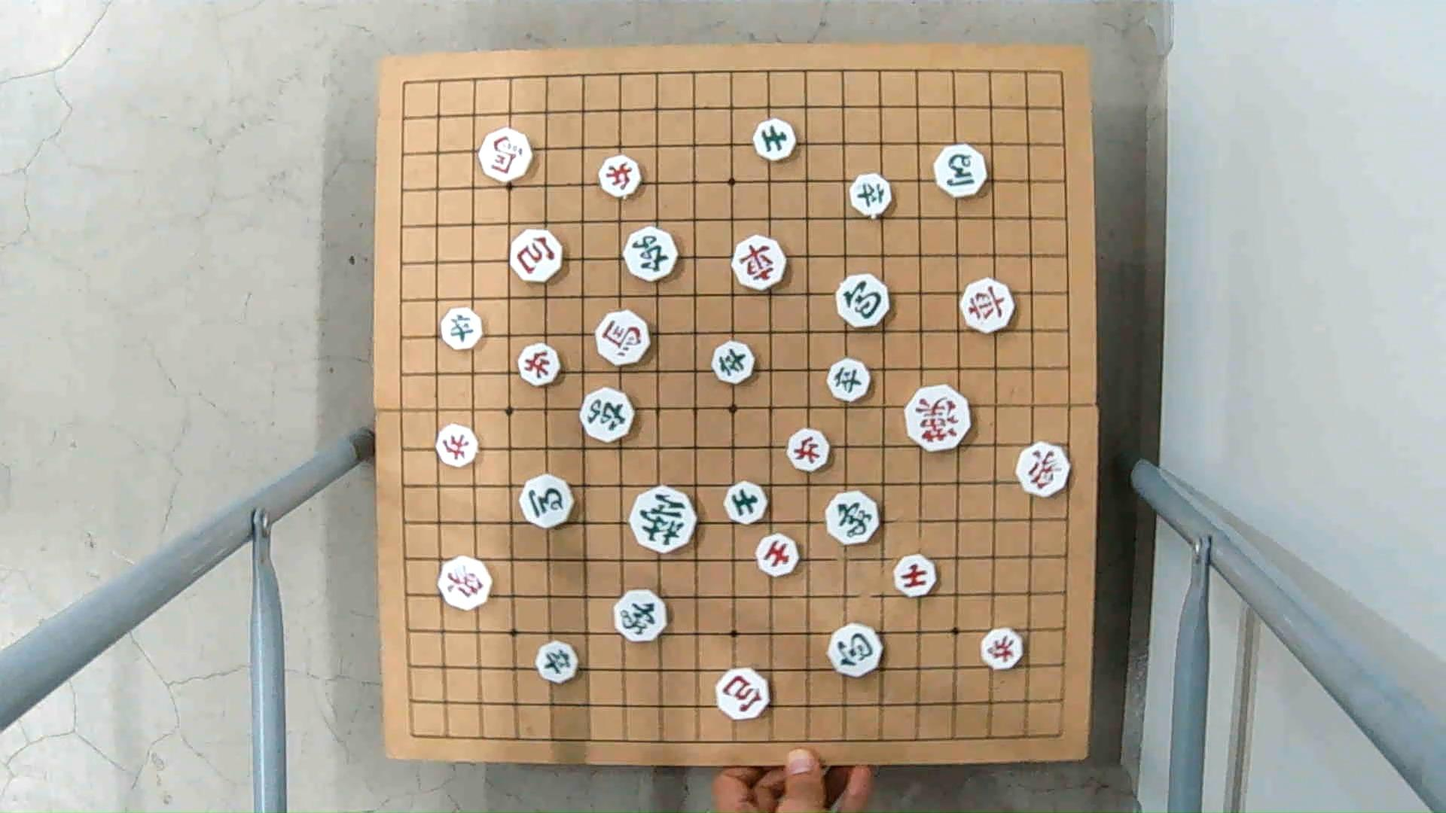cha_green: (621, 227, 679, 282), (578, 391, 635, 440)
cha_red: (734, 236, 787, 292), (958, 281, 1016, 331)
jol_green: (847, 173, 895, 215), (827, 360, 874, 400), (438, 310, 484, 349), (712, 344, 758, 383), (535, 644, 581, 682)
jol_red: (597, 157, 642, 198), (785, 431, 832, 470), (978, 629, 1026, 667), (435, 425, 477, 468), (517, 345, 560, 386)
ma_green: (932, 146, 988, 197), (519, 478, 576, 525)
ma_red: (595, 314, 653, 364), (477, 130, 534, 178)
po_green: (836, 275, 893, 327), (827, 625, 883, 673)
po_red: (714, 668, 771, 717), (508, 233, 564, 282)
sa_green: (722, 483, 771, 523), (751, 120, 798, 160)
sa_red: (892, 554, 939, 594), (755, 536, 801, 576)
sang_green: (825, 494, 882, 541), (613, 592, 667, 641)
sang_red: (1013, 444, 1075, 493), (438, 559, 491, 607)
wang_green: (630, 485, 699, 551)
wang_red: (903, 385, 974, 451)
